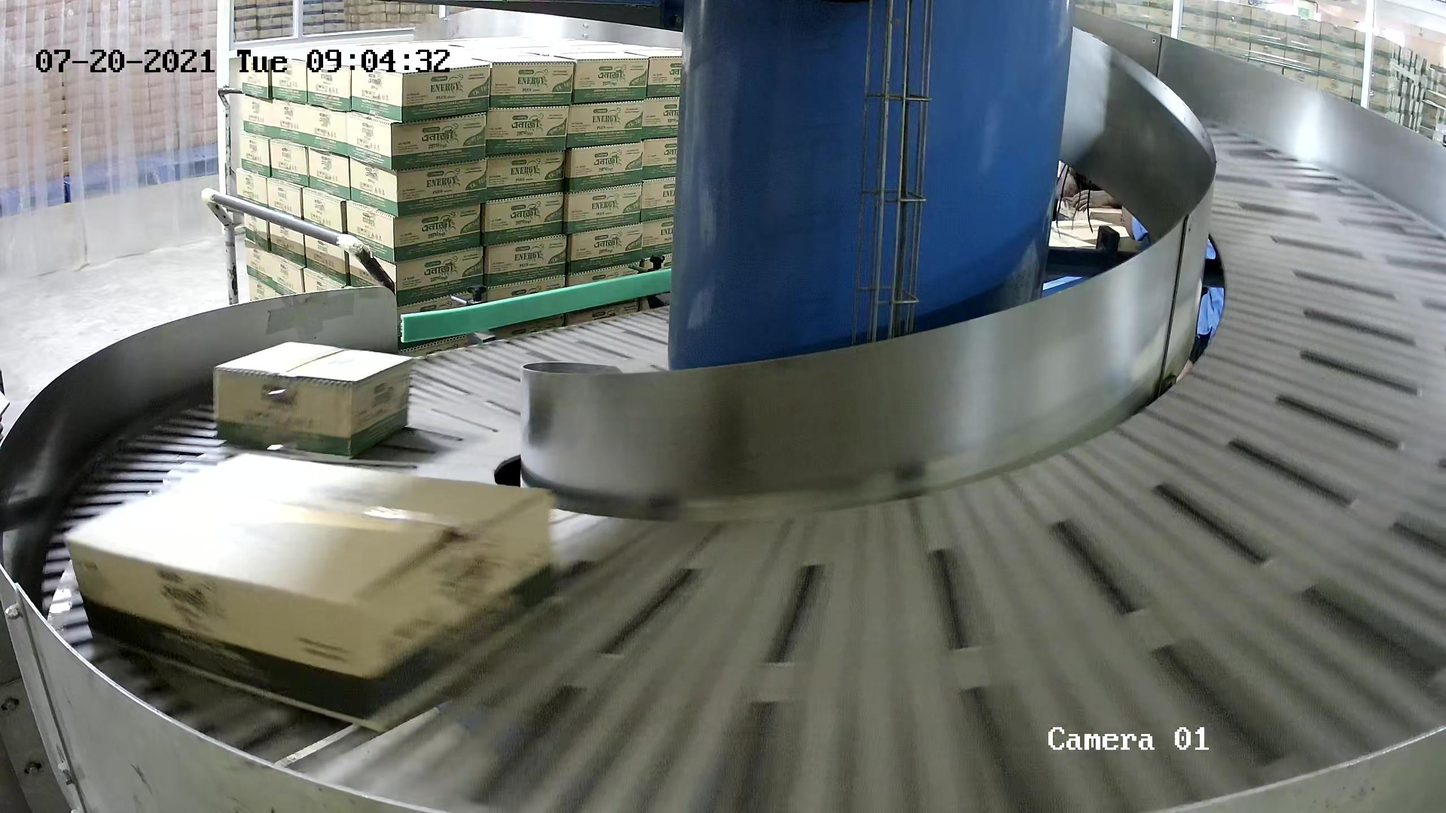Box: (63, 449, 561, 735), (211, 339, 415, 461)
